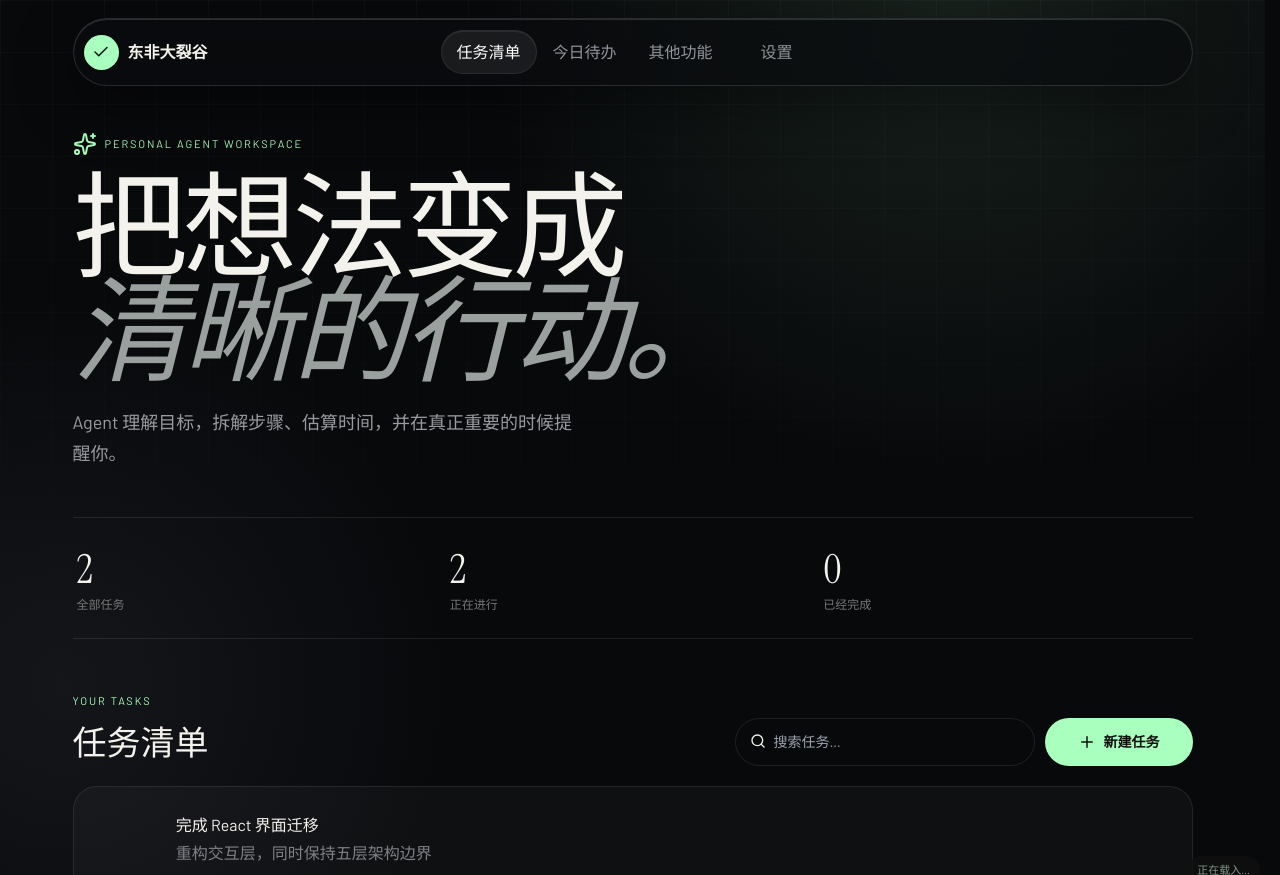
Test case: application shell › opens the two-stage task creation flow
The image size is (1280, 875).
Click the button "新建任务" at (1118, 742), box [1044, 718, 1192, 766]
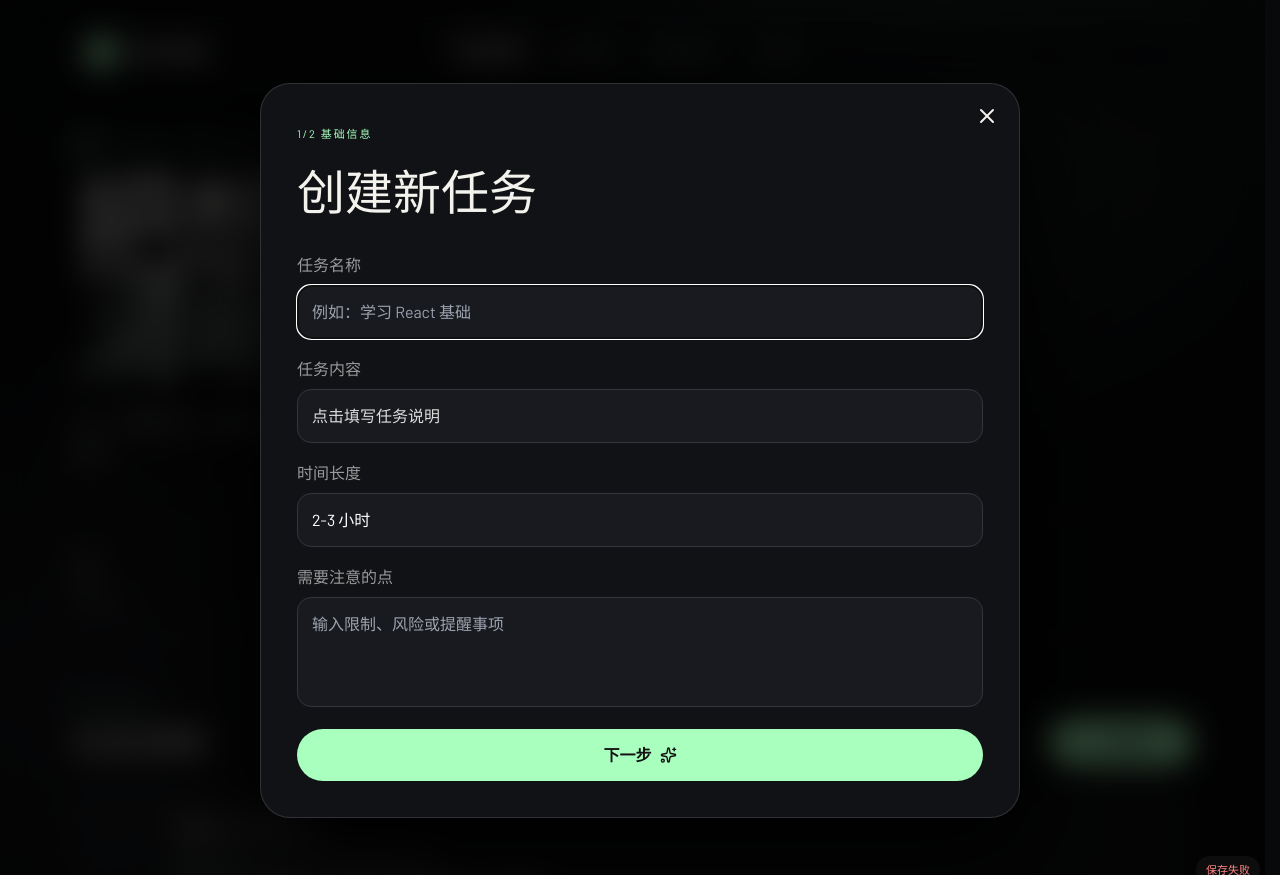
Expected: the heading "创建新任务" is shown, [297, 162, 537, 224]
Expected: the text "1/2 基础信息" is shown, [297, 126, 372, 140]
